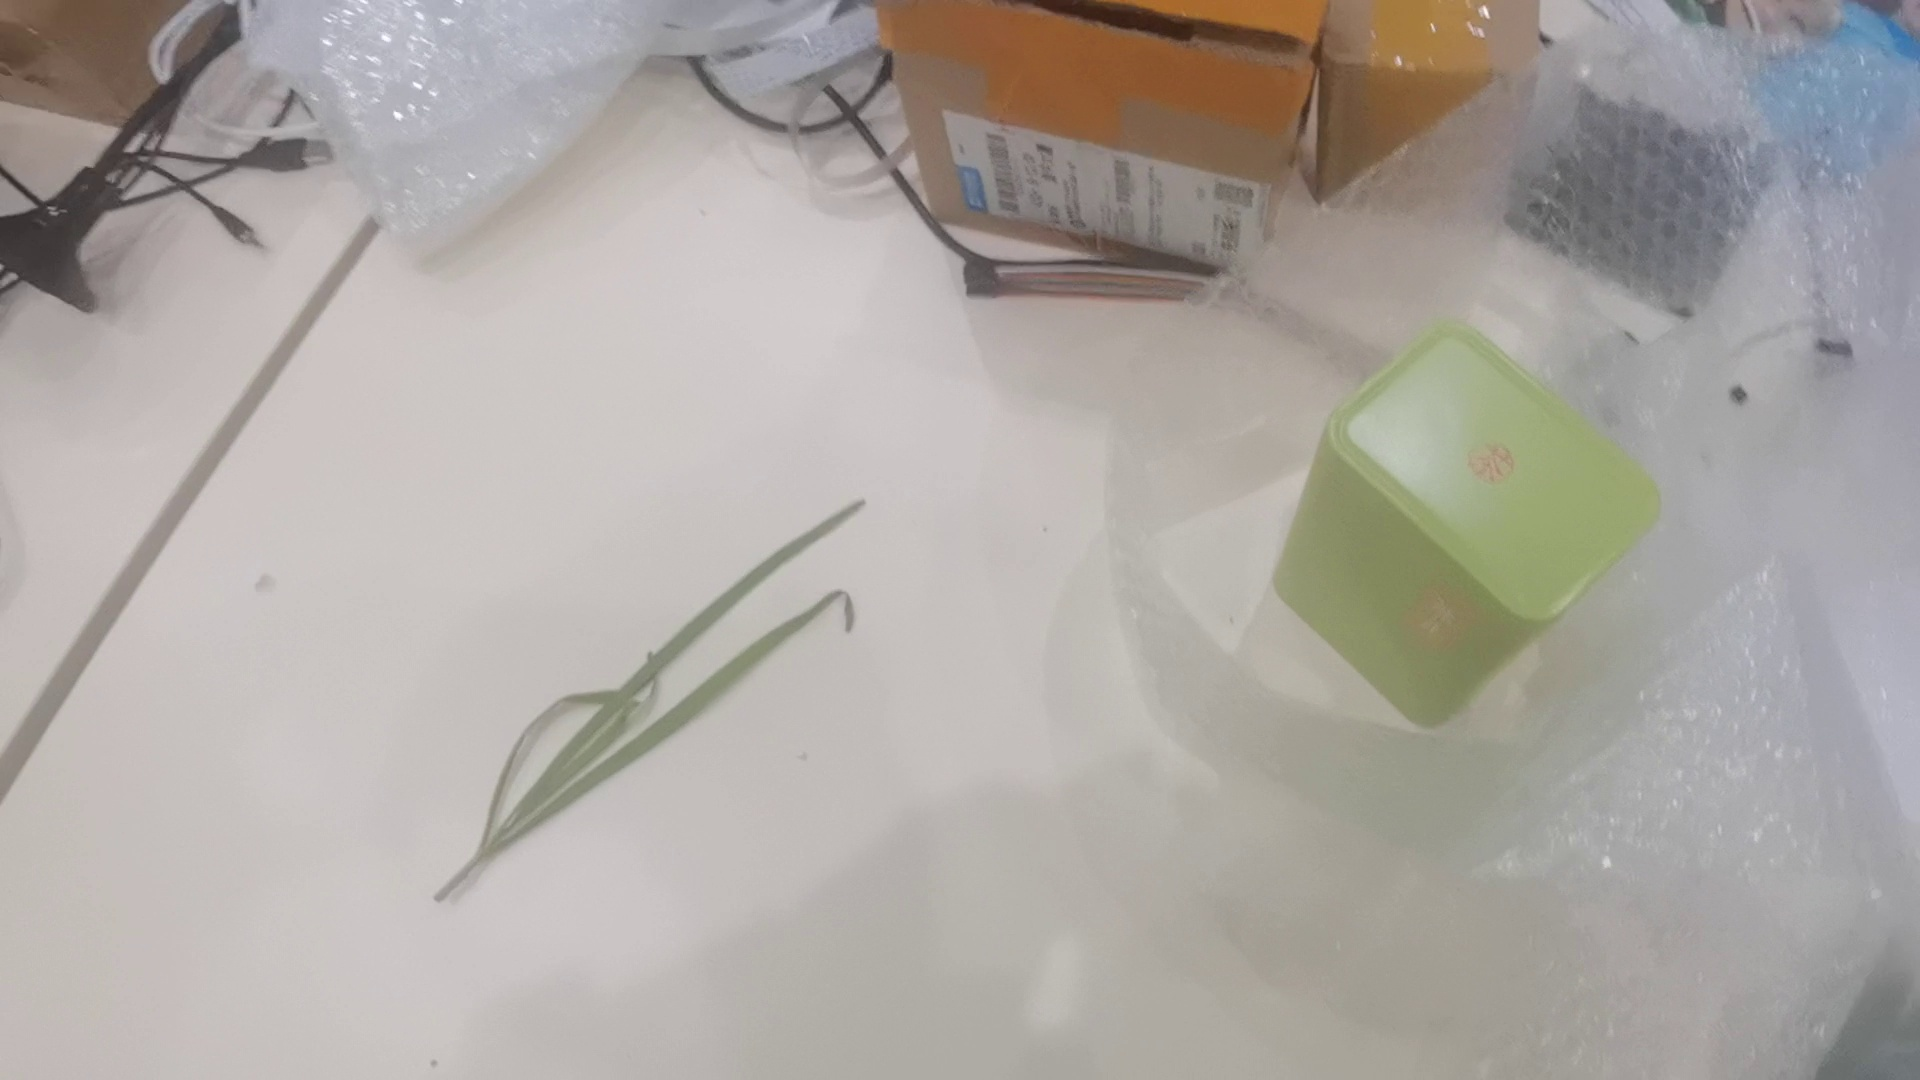chives: (431, 497, 858, 902)
